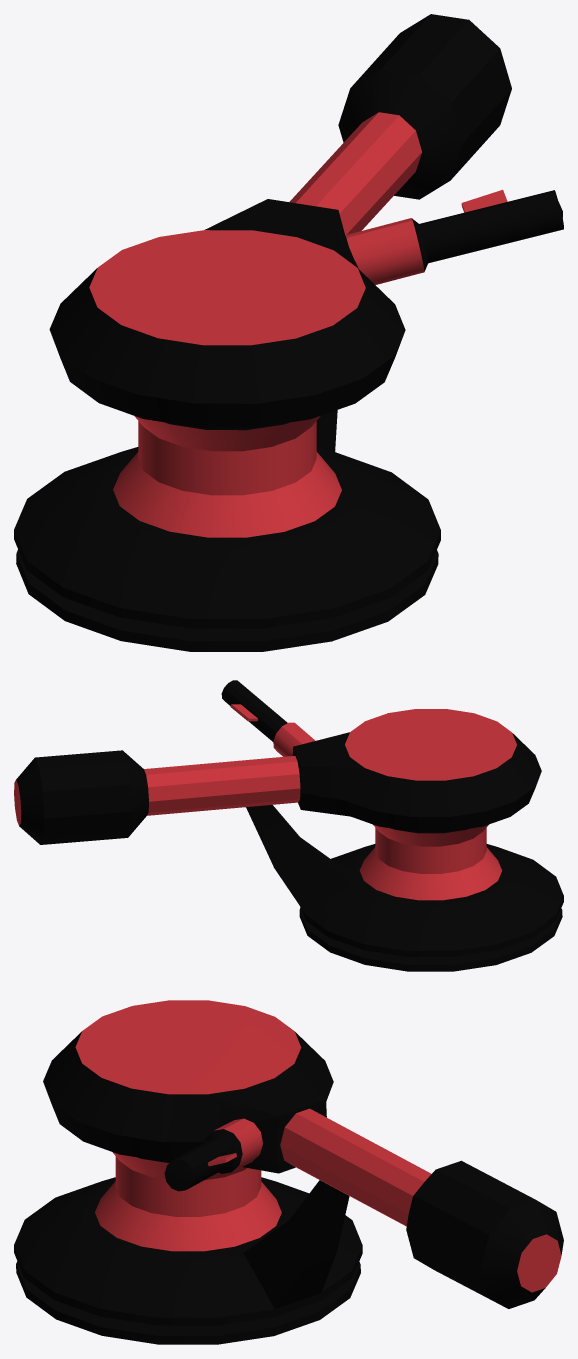
The model's file is KırmızıMakine.fbx.
3 renders of one model, top to bottom at view 1: azimuth 30°, elevation 25°; view 2: azimuth 150°, elevation 25°; view 3: azimuth 270°, elevation 25°, orthographic. The views are drawn at different scales.
Visible parts, largest first — view 1: KırmızıMakine; view 2: KırmızıMakine; view 3: KırmızıMakine.
Boxes of the visible parts, x1,y1,x2,y2 form: KırmızıMakine: (14, 14, 563, 651); KırmızıMakine: (14, 680, 563, 971); KırmızıMakine: (14, 1000, 563, 1344).
Size of the model in its own units: 0.8834 by 0.3856 by 0.7921.
